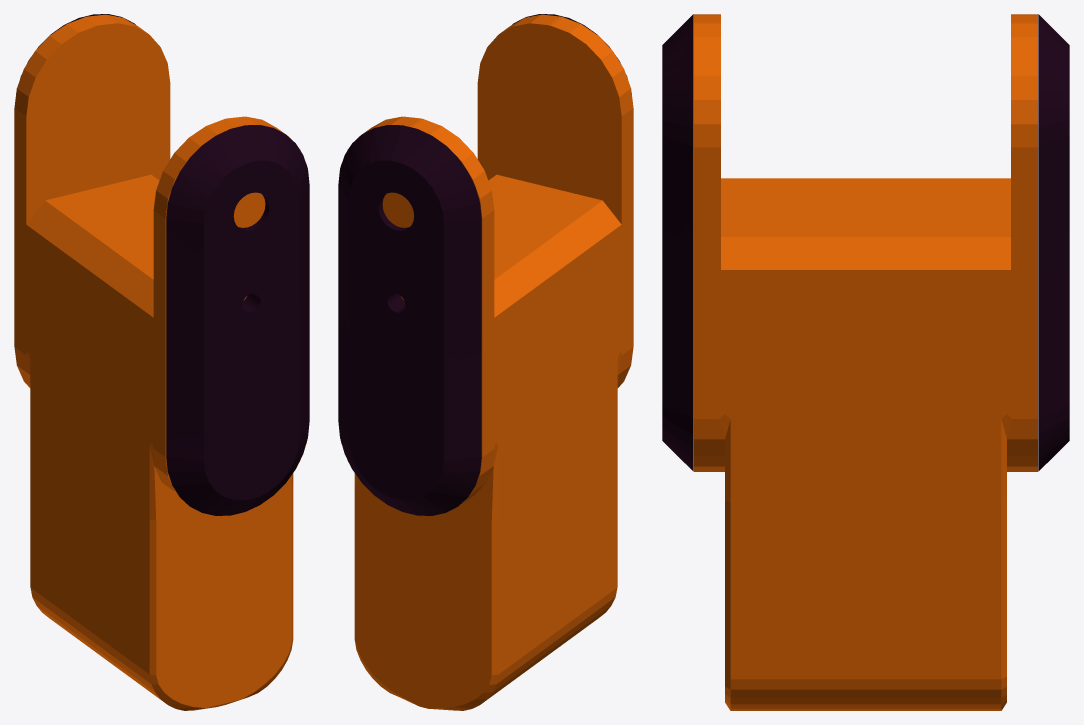
The model's file is Mid.fbx.
3 renders of one model, left to right at view 1: azimuth 30°, elevation 25°; view 2: azimuth 150°, elevation 25°; view 3: azimuth 270°, elevation 25°, orthographic. The views are drawn at different scales.
Visible parts, largest first — view 1: Wrist.001; view 2: Wrist.001; view 3: Wrist.001.
Boxes of the visible parts, left/top/right/bottom form: Wrist.001: left=14, top=14, right=309, bottom=710; Wrist.001: left=338, top=14, right=633, bottom=710; Wrist.001: left=662, top=14, right=1069, bottom=710.
Size of the model in its own units: 3011 by 11815 by 6493.
